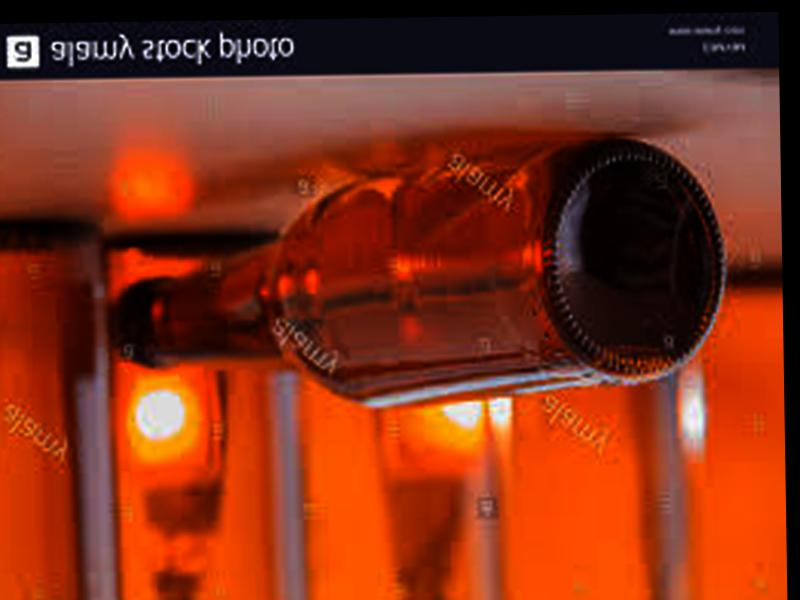Beer: (118, 124, 729, 415)
